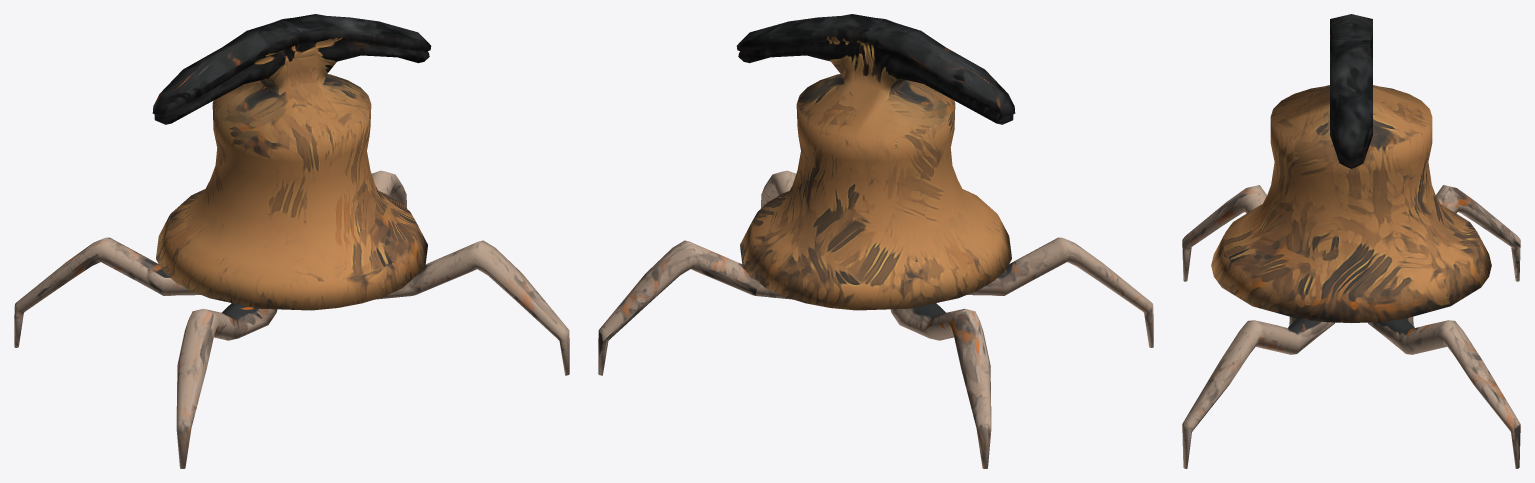
The model's file is explosive.obj.
The picture shows the model from 3 angles, left to right: view 1: azimuth 30°, elevation 25°; view 2: azimuth 150°, elevation 25°; view 3: azimuth 270°, elevation 25°; orthographic projection.
Visible parts, largest first — view 1: ball.001; view 2: ball.001; view 3: ball.001.
Boxes of the visible parts, left/top/right/bottom form: ball.001: left=14, top=14, right=569, bottom=468; ball.001: left=598, top=14, right=1153, bottom=468; ball.001: left=1182, top=14, right=1520, bottom=468.
Bounding box in the file's own units: 1.75 × 1.43 × 1.31.
Materials: 1 (1 with a texture image).
